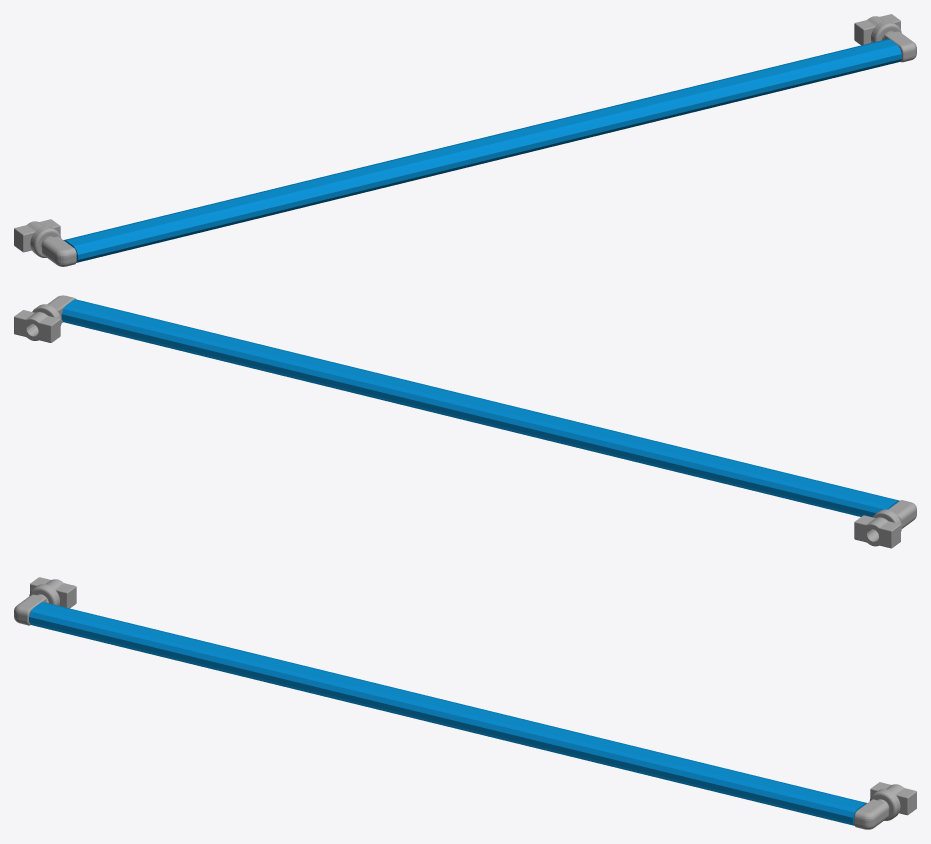
Rendered from handrail_41_5.dae.
3 renders of one model, top to bottom at view 1: azimuth 30°, elevation 25°; view 2: azimuth 150°, elevation 25°; view 3: azimuth 330°, elevation 25°, orthographic.
Visible parts, largest first — view 1: node; view 2: node; view 3: node.
Part boxes in pixels (bbox=[...]): node: bbox=[14, 14, 916, 266]; node: bbox=[14, 295, 916, 548]; node: bbox=[14, 577, 916, 829].
Bounding box in the file's own units: 1.06 × 0.0332 × 0.0784.
